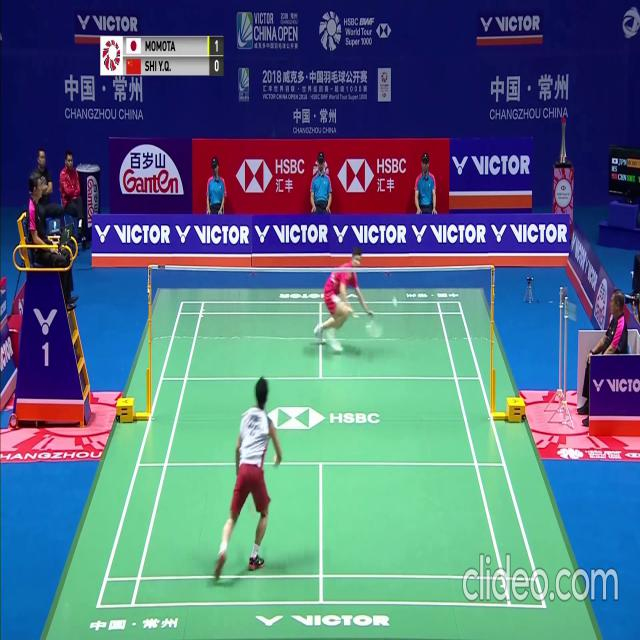Shuttlecock: (394, 297, 398, 304)
